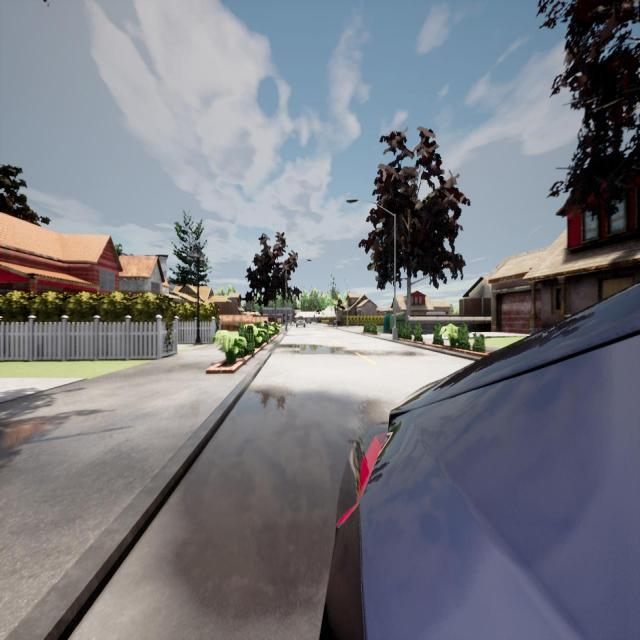Vehicle: (322, 283, 638, 637), (296, 316, 306, 328)
